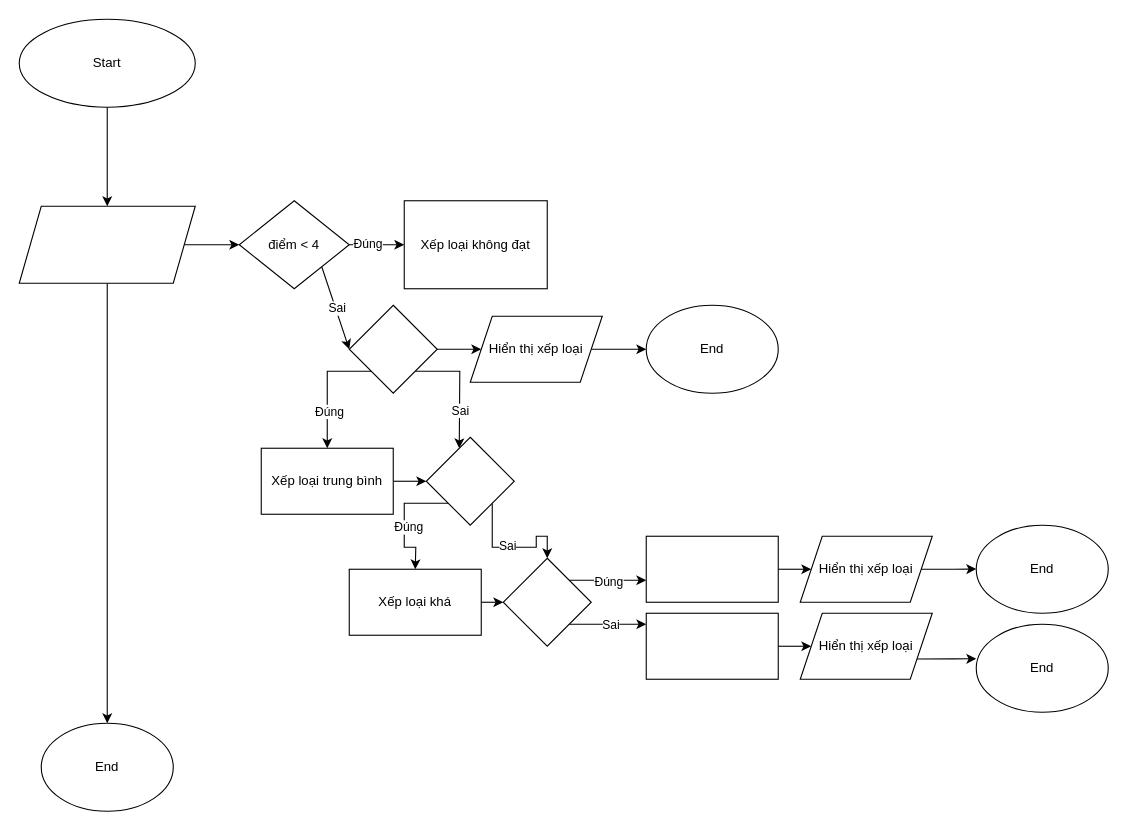
Image size: 1128x831. Some labels were removed from this diagram. The box of each missing label's shape, as (x1, y1, x2, y2) in pixels:
Nhập điểm: (18, 205, 195, 283)
Xếp loại giỏi: (645, 535, 778, 602)
Xếp loại xuất sắc: (645, 612, 778, 679)
điểm < 6: (348, 304, 437, 393)
Điểm < 8: (425, 436, 514, 525)
Điểm < 9: (502, 557, 591, 646)
